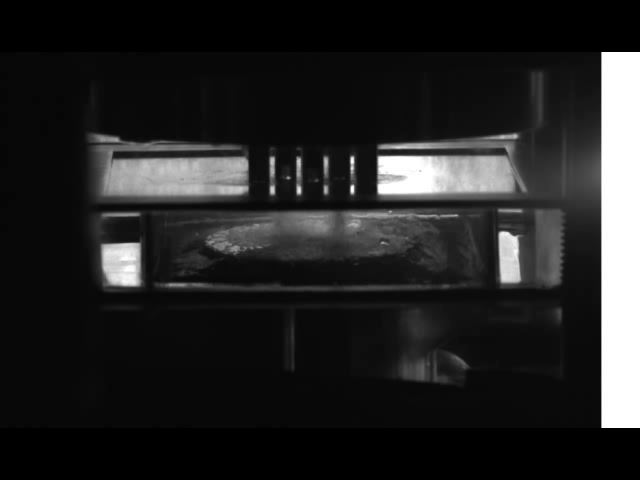Zona de teste: (199, 212, 411, 258)
